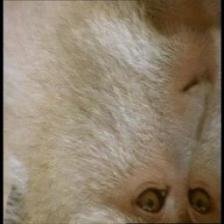monkey: (116, 1, 220, 223)
